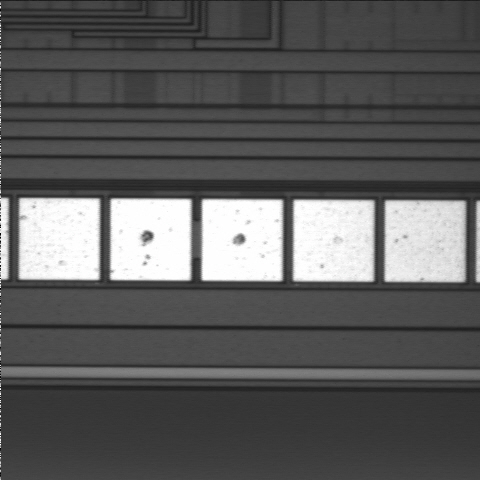pad: (19, 198, 100, 280), (202, 199, 283, 281), (293, 200, 374, 282), (110, 199, 191, 280), (385, 201, 465, 282)
